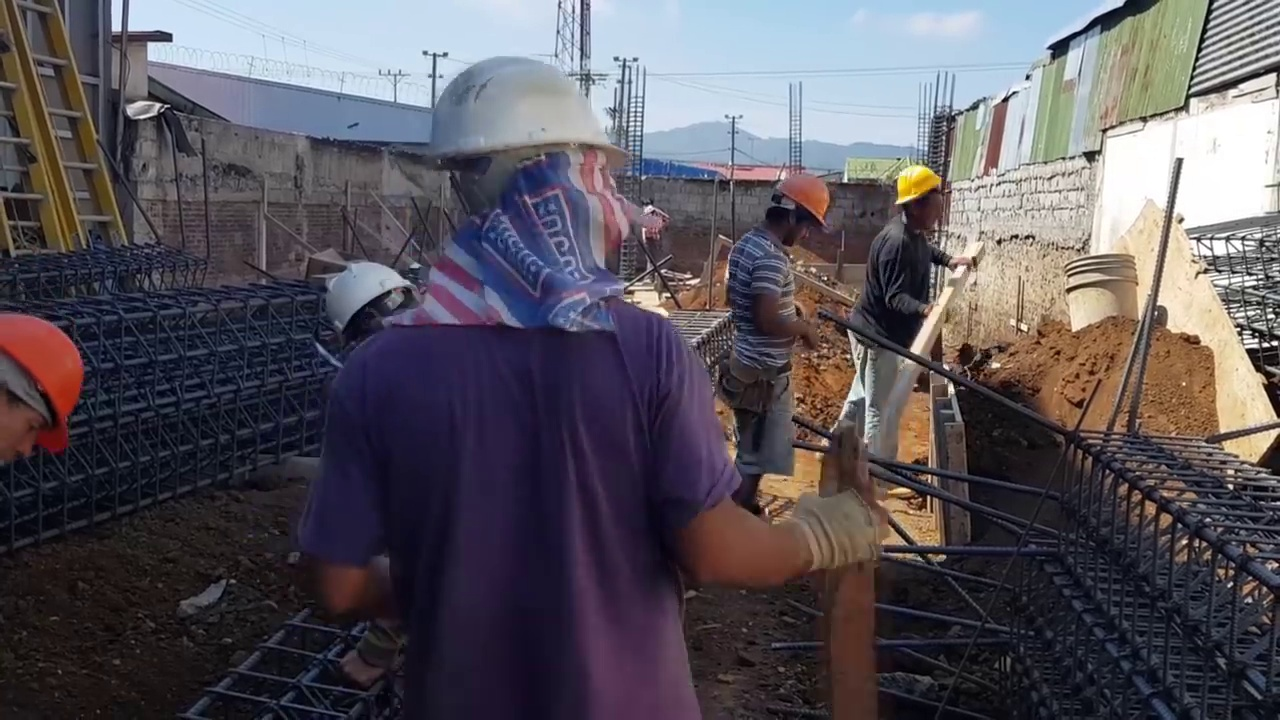helmet: (415, 53, 625, 197), (0, 315, 85, 449), (317, 260, 401, 342), (770, 173, 835, 230), (889, 165, 950, 210)
helmet-off: (640, 195, 654, 210)
helmet-on: (422, 51, 636, 315), (0, 308, 88, 470), (322, 254, 423, 360), (749, 172, 836, 250), (888, 164, 949, 237)
person: (304, 51, 885, 720), (843, 164, 972, 467), (724, 172, 831, 517), (638, 194, 667, 288)
